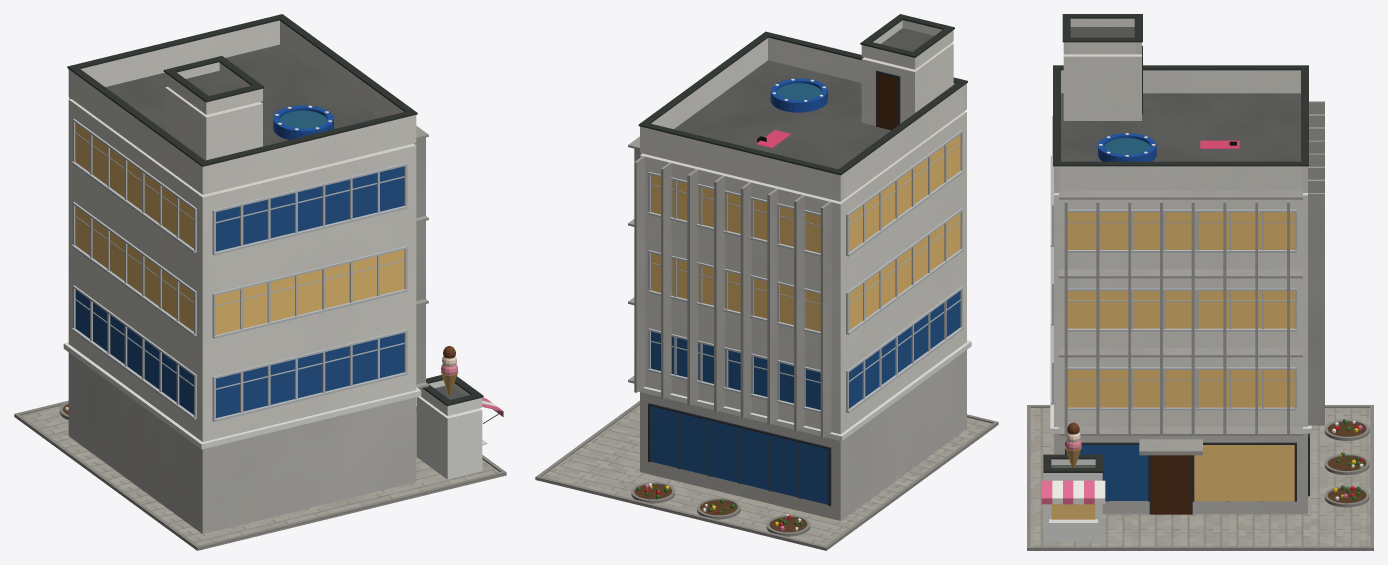
Rendered from dum_0d_kancelare.glb.
The picture shows the model from 3 angles, left to right: view 1: azimuth 30°, elevation 25°; view 2: azimuth 150°, elevation 25°; view 3: azimuth 270°, elevation 25°; orthographic projection. The views are drawn at different scales.
Parts seen in each view (by area): view 1: dum, noc; view 2: dum, noc; view 3: dum, noc.
Boxes of the visible parts, x1,y1,x2,y2 form: dum: [14, 14, 506, 550]; noc: [75, 123, 404, 334]; dum: [535, 14, 998, 550]; noc: [651, 134, 960, 331]; dum: [1027, 14, 1373, 550]; noc: [1051, 212, 1294, 519].
Bounding box in the file's own units: 12.59 × 16.47 × 12.73.
1 material, 1 textured.
